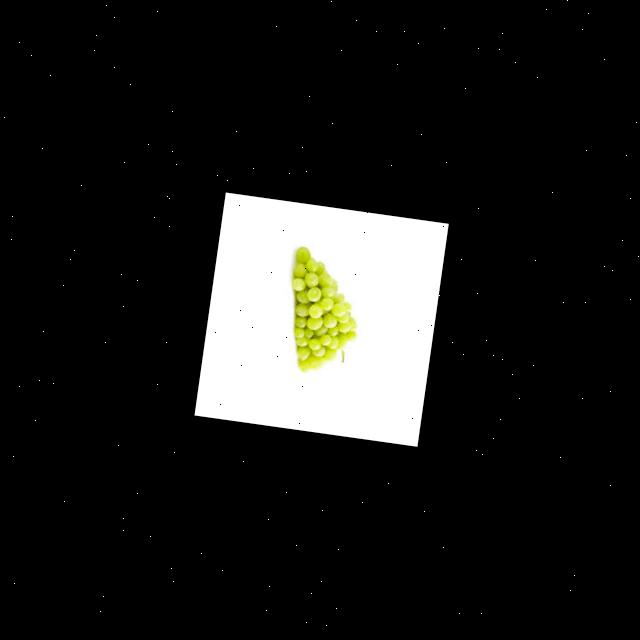grape: (278, 246, 368, 380)
